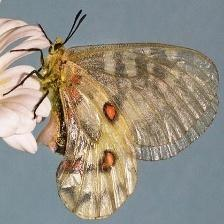butterfly: (36, 40, 219, 220)
